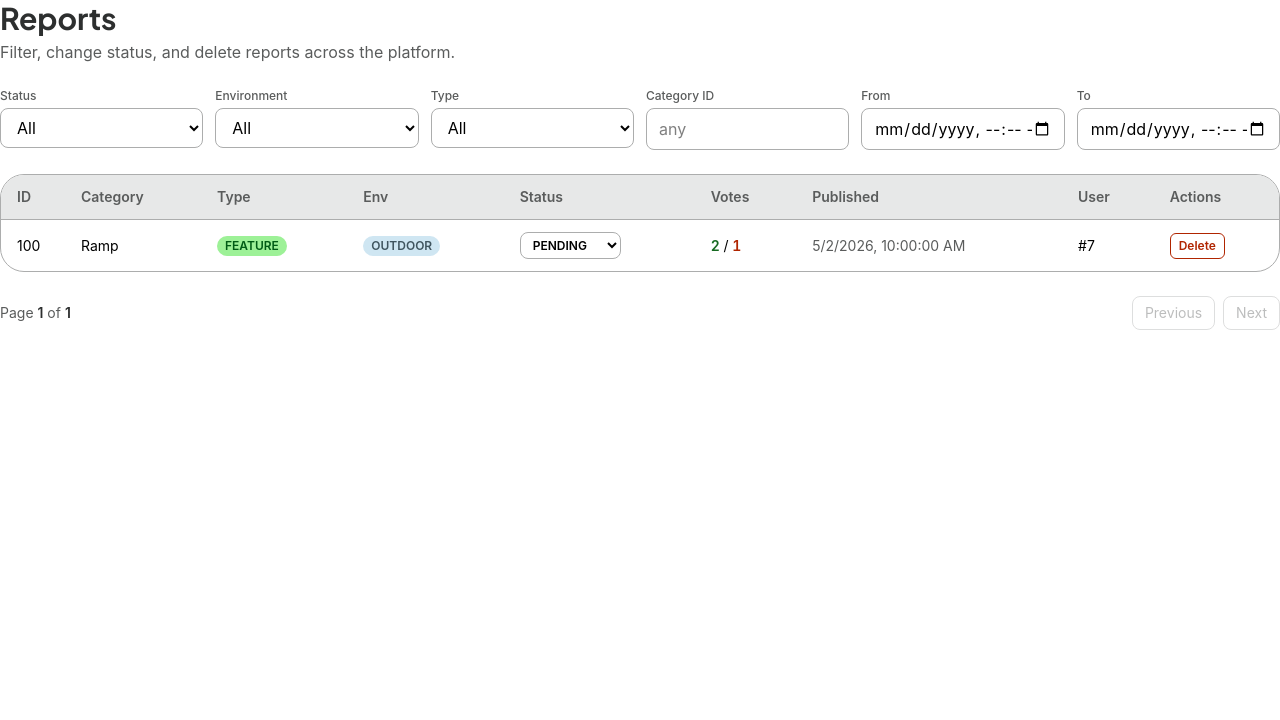
Test: AdminReportsPage › shows delete mutation errors
This screenshot has width=1280, height=720.
Check: the text "Ramp" is shown, box [65,220,201,271]
Click the button "Delete" at {"x": 1197, "y": 246}, box [1170,232,1225,258]
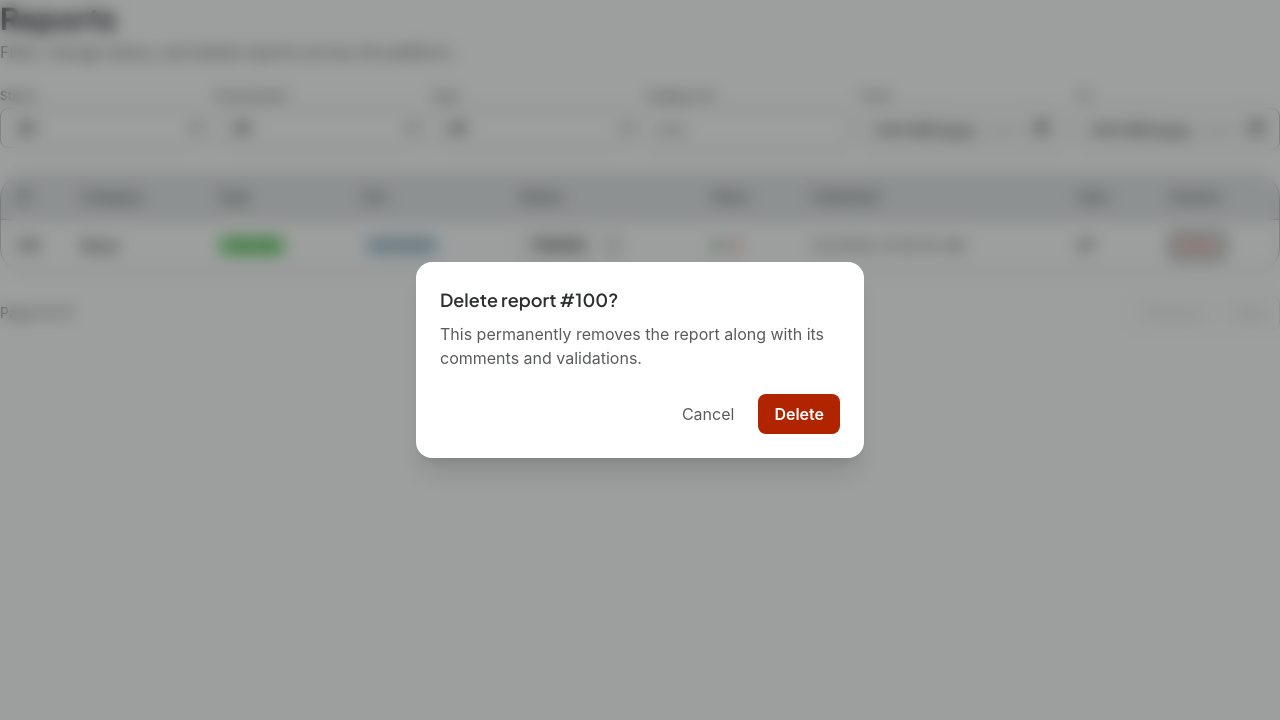
Click the button "Delete" at {"x": 799, "y": 414}, box [758,394,840,434]
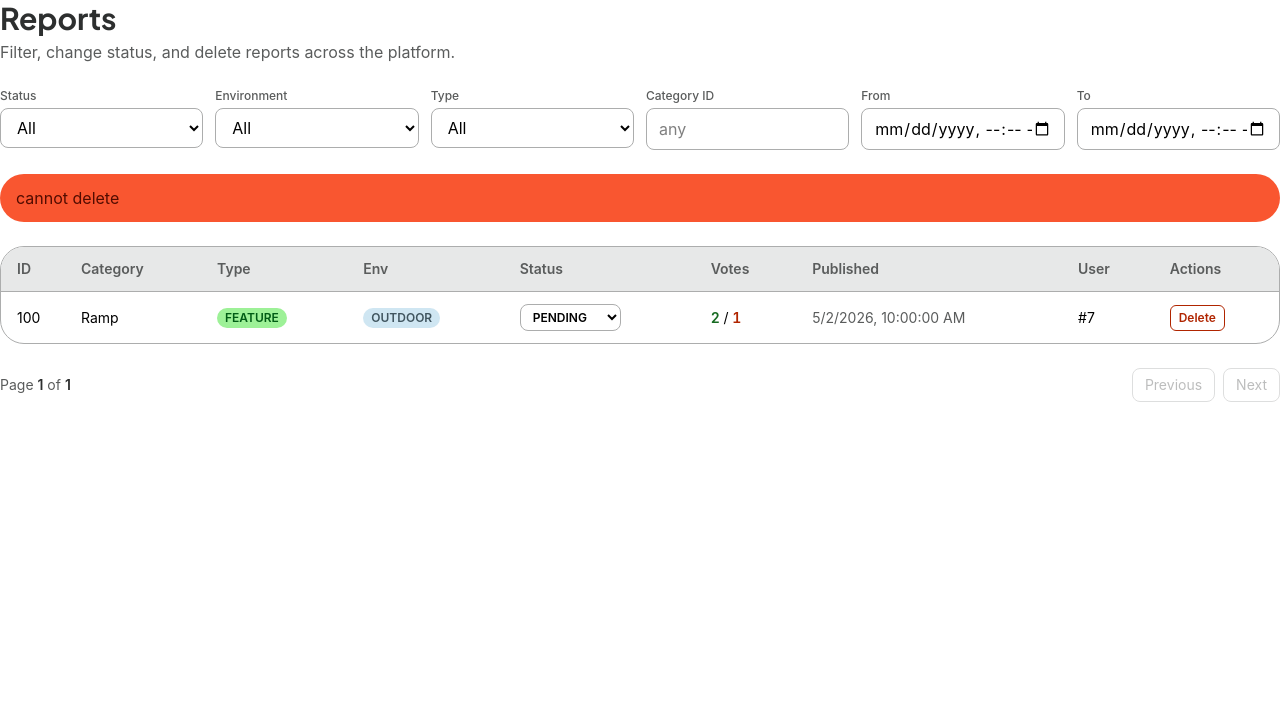
Check: the text "cannot delete" is shown, box [0,174,1279,222]
